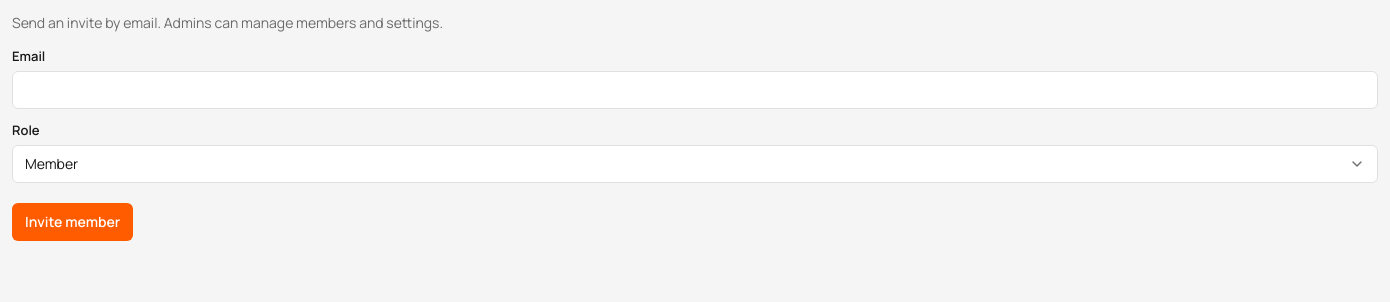
Scenario: CreateMemberForm › shows the server error message
Step 1. Type "taken@example.com" into the field labelled "Email" → (695, 90), box left=12, top=71, right=1378, bottom=109
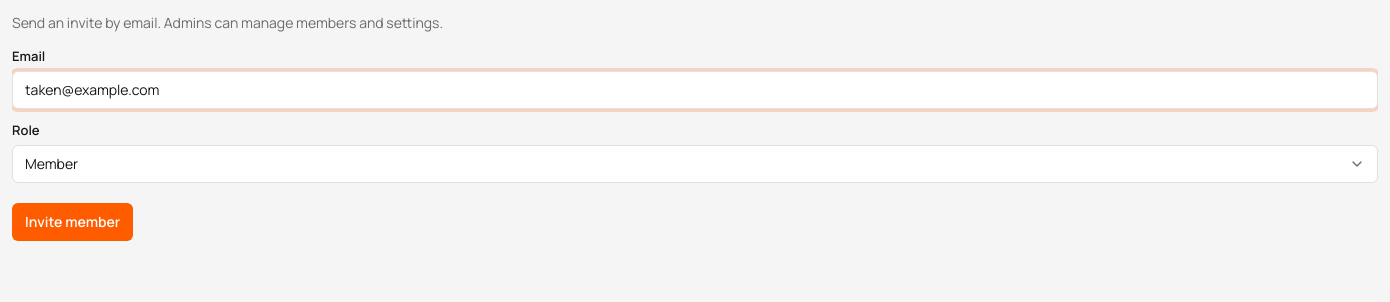
Step 2. Click the button "Invite member" → (73, 222), box left=12, top=202, right=133, bottom=240
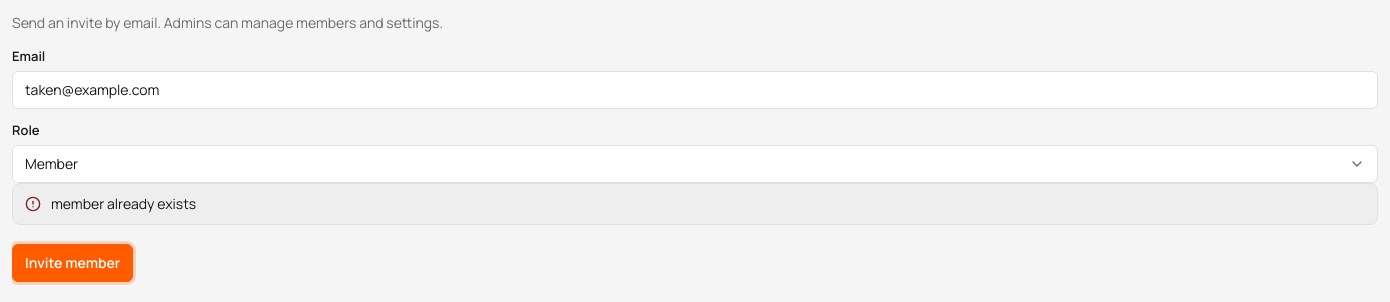
Expected: the message reads "member already exists", left=51, top=194, right=196, bottom=213
